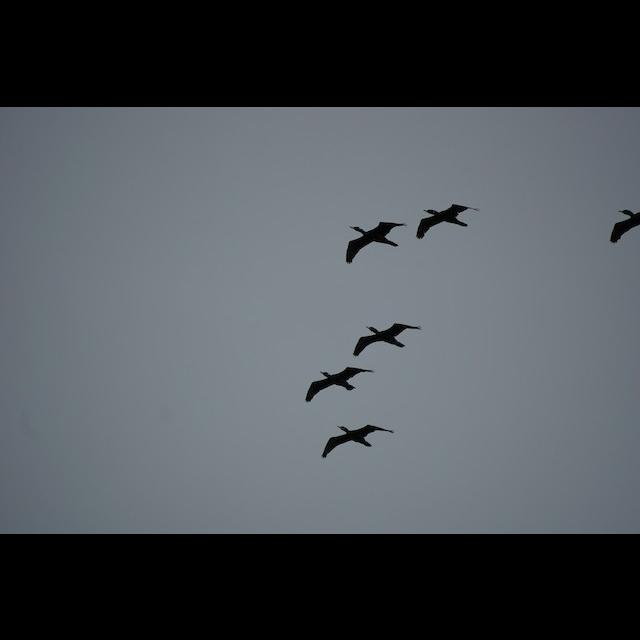cormorant: (317, 414, 398, 464), (342, 217, 408, 265), (302, 364, 376, 404), (351, 320, 423, 358), (414, 202, 484, 240), (606, 198, 640, 248)
